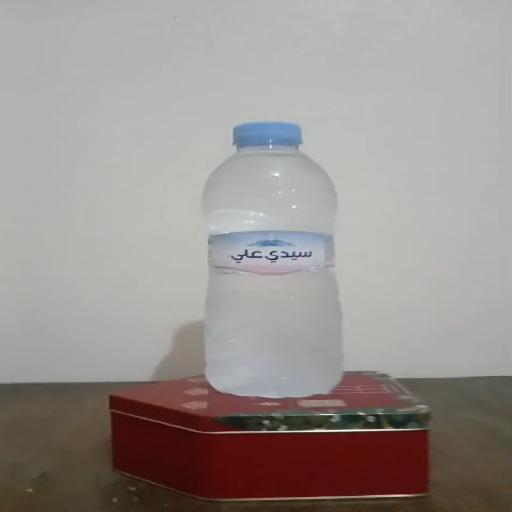bouteille conformite: (163, 122, 368, 397)
